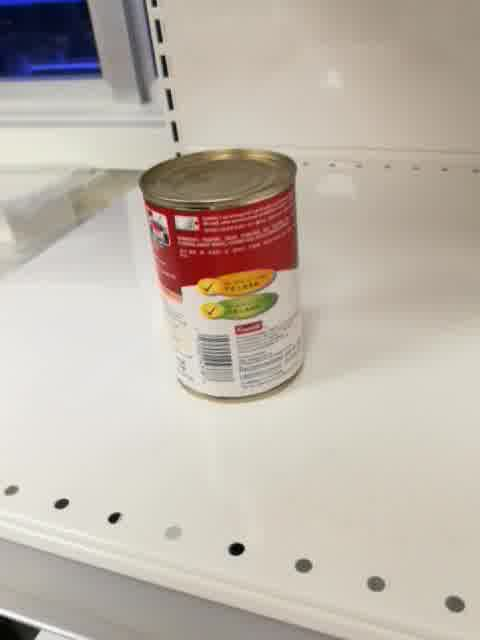tomatosoup: (137, 147, 308, 403)
